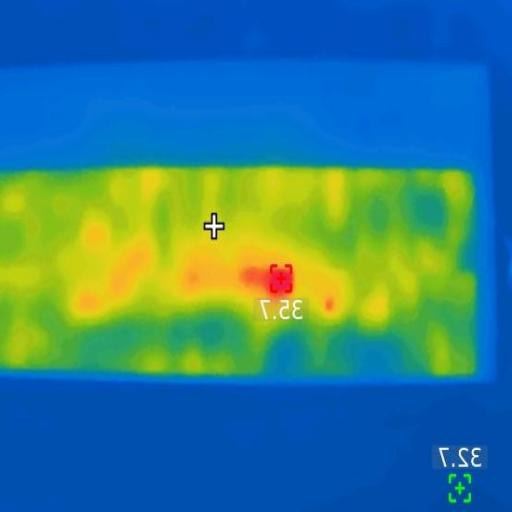hotspot: (270, 266, 290, 295)
